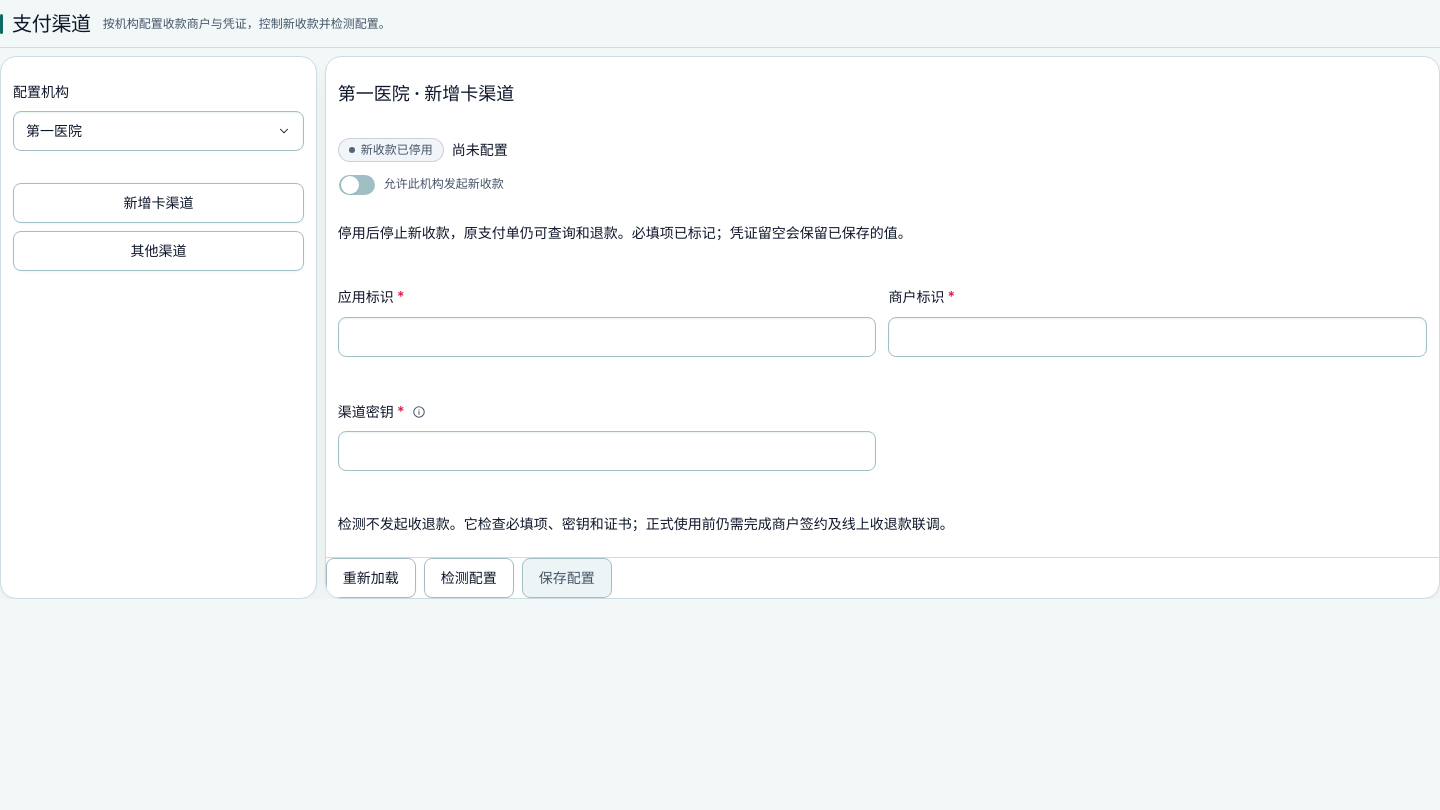
Test: PaymentChannelManagement › checks the draft without saving or enabling the channel
Type "APP" into the field labelled "应用标识*" at {"x": 607, "y": 337}, box [338,317,876,357]
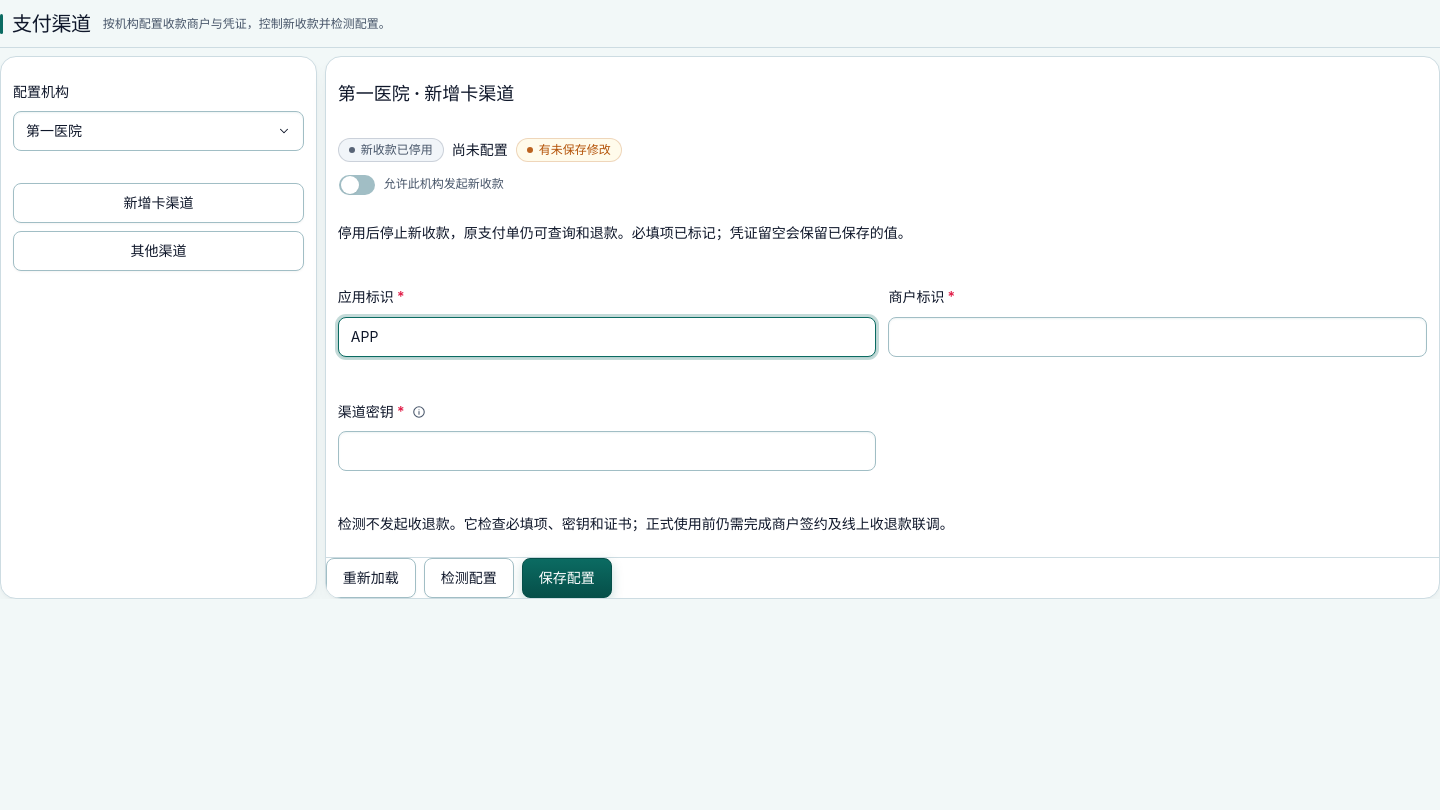
Type "MERCHANT" into the field labelled "商户标识*" at {"x": 1158, "y": 337}, box [888,317,1427,357]
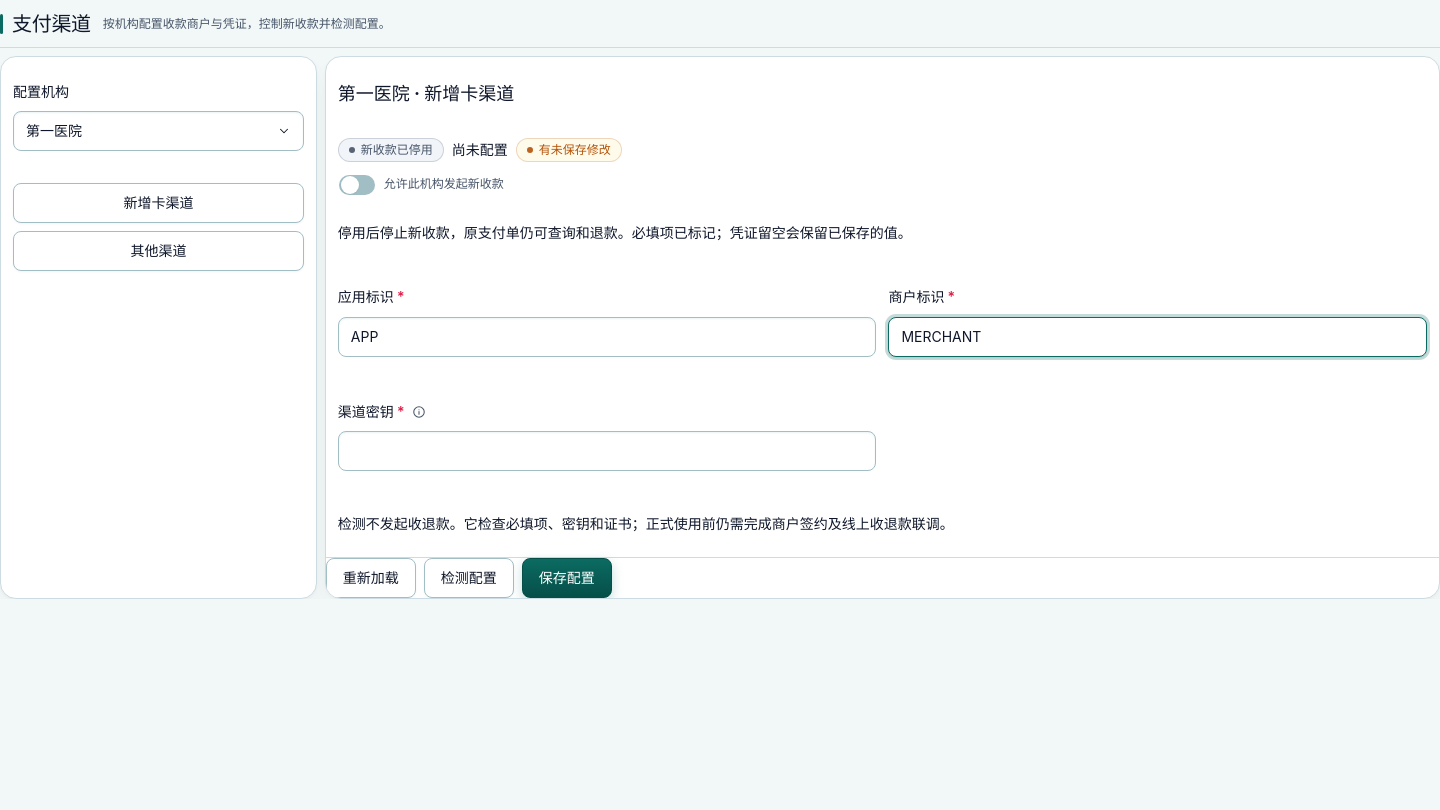
Type "do-not-cache-secret" into the password field labelled "渠道密钥*" at {"x": 607, "y": 451}, box [338,431,876,471]
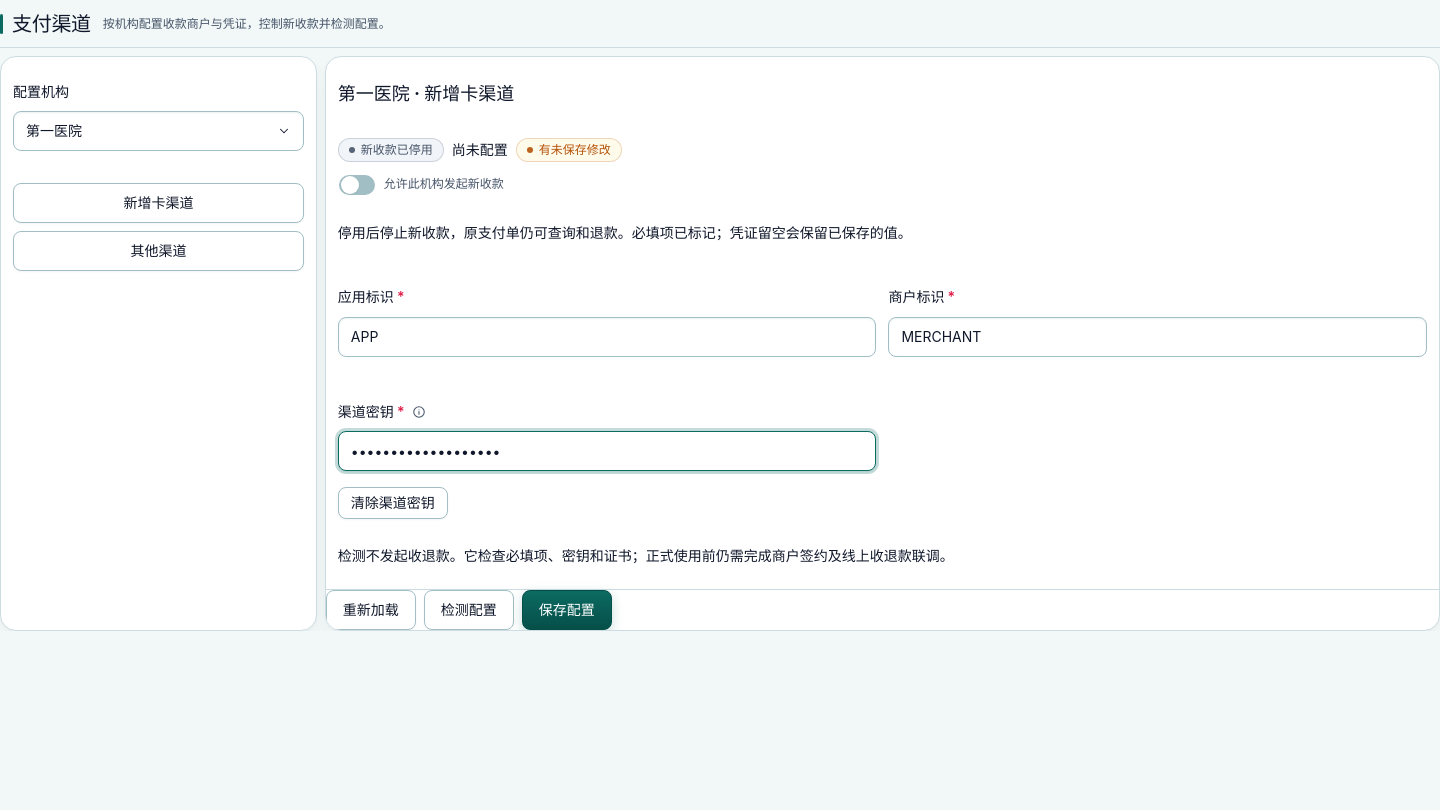
Click the button "检测配置" at {"x": 469, "y": 610}, box [424,590,514,630]
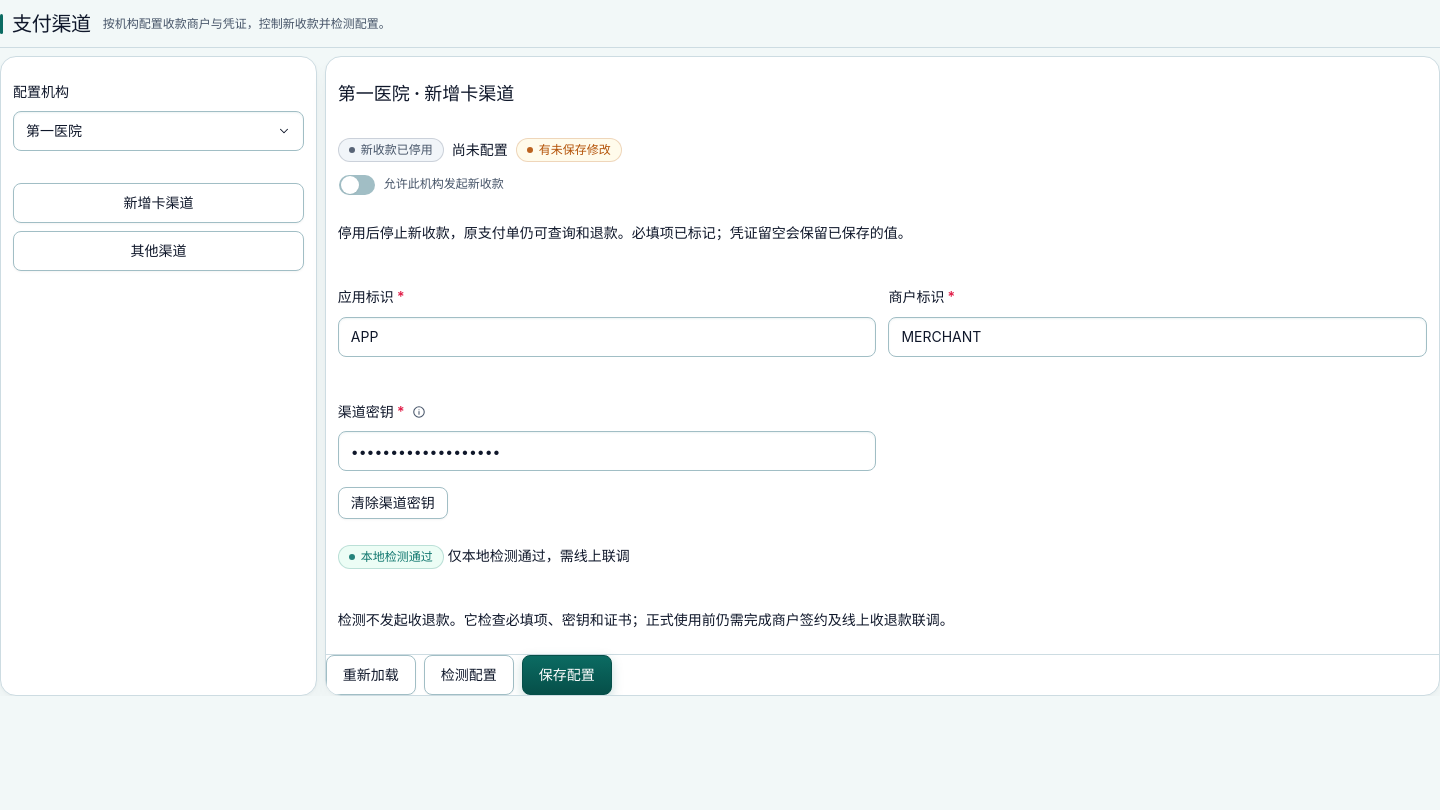
Now the text "本地检测通过" is shown, box [338,545,444,569]
